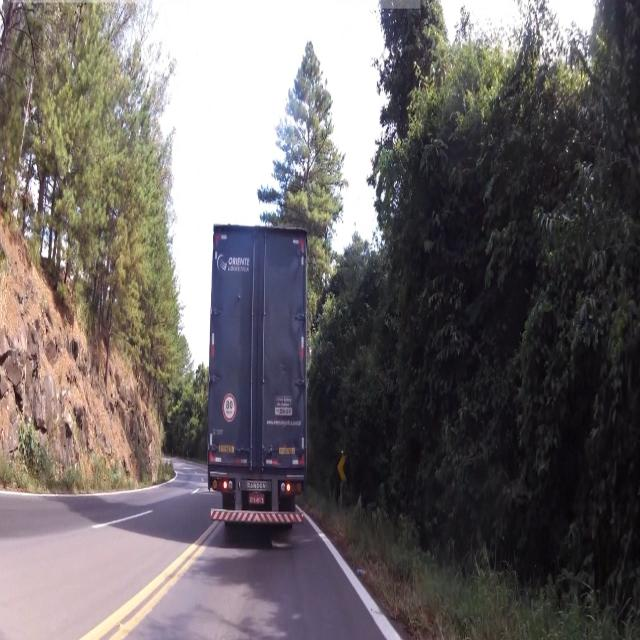Del: (339, 448, 347, 484)
R-19: (222, 394, 238, 424)
